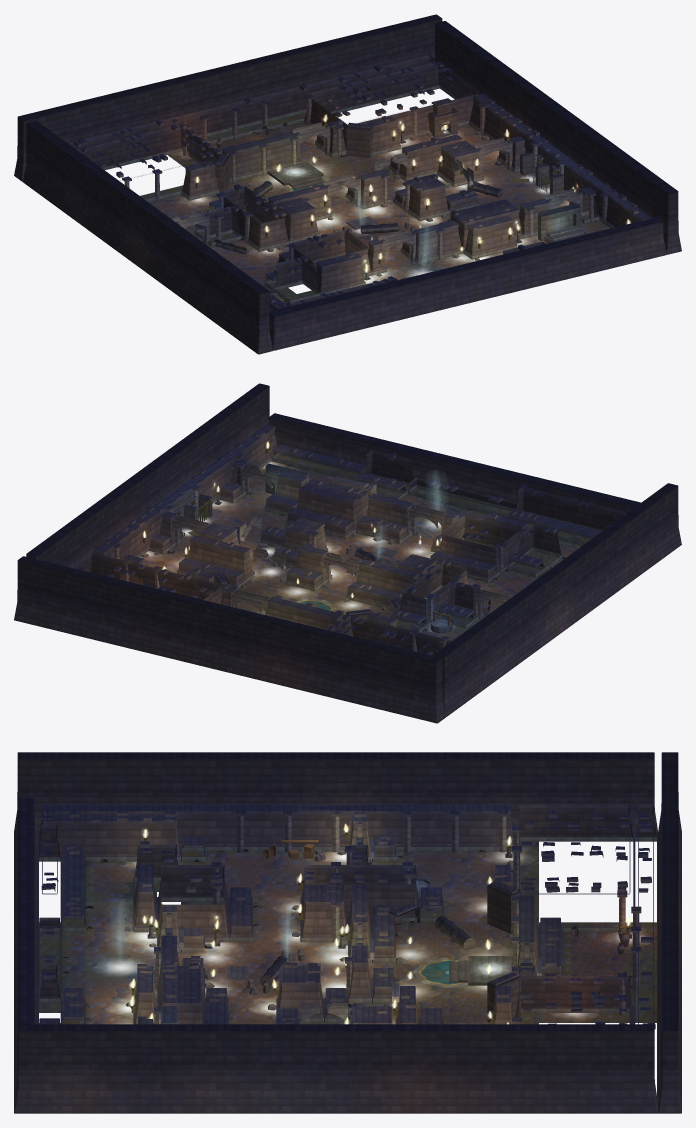
The model's file is level2.glb.
3 views of the same model, one above another, from view 1: azimuth 30°, elevation 25°; view 2: azimuth 150°, elevation 25°; view 3: azimuth 270°, elevation 25° (orthographic). The views are drawn at different scales.
Parts seen in each view (by area): view 1: COL_WALL, DECO_TRIM, FLOOR_DG, FLOOR_DGB, FLOOR_DGV, COL_CUT, FLOOR_POOL, COL_ALTAR, FLOOR_WEAR, COL_RUBBLE, DECO_IRON, FLOOR_SHAFT (+2 smaller); view 2: COL_WALL, DECO_TRIM, FLOOR_DG, FLOOR_DGB, FLOOR_DGV, FLOOR_POOL, COL_CUT, FLOOR_WEAR, COL_RUBBLE, FLOOR_DIRT, FLOOR_SHAFT; view 3: COL_WALL, DECO_TRIM, FLOOR_DG, FLOOR_DGB, FLOOR_DGV, FLOOR_POOL, FLOOR_WEAR, COL_CUT, COL_RUBBLE, COL_ALTAR, FLOOR_DIRT, FLOOR_MEDAL (+4 smaller).
Boxes of the visible parts, left/top/right/bottom form: COL_WALL: left=14, top=14, right=681, bottom=354; DECO_TRIM: left=68, top=54, right=651, bottom=311; FLOOR_DG: left=140, top=124, right=609, bottom=304; FLOOR_DGB: left=157, top=112, right=599, bottom=285; FLOOR_DGV: left=211, top=122, right=405, bottom=202; COL_CUT: left=195, top=119, right=581, bottom=280; FLOOR_POOL: left=182, top=131, right=568, bottom=284; COL_ALTAR: left=267, top=161, right=324, bottom=189; FLOOR_WEAR: left=199, top=133, right=527, bottom=277; COL_RUBBLE: left=203, top=121, right=596, bottom=302; DECO_IRON: left=195, top=121, right=557, bottom=271; FLOOR_SHAFT: left=357, top=189, right=560, bottom=267; COL_WALL: left=14, top=383, right=681, bottom=723; DECO_TRIM: left=71, top=424, right=630, bottom=655; FLOOR_DG: left=140, top=455, right=590, bottom=636; FLOOR_DGB: left=148, top=479, right=573, bottom=640; FLOOR_DGV: left=237, top=577, right=394, bottom=616; FLOOR_POOL: left=140, top=461, right=434, bottom=614; COL_CUT: left=185, top=463, right=490, bottom=633; FLOOR_WEAR: left=163, top=471, right=570, bottom=639; COL_RUBBLE: left=141, top=465, right=565, bottom=630; FLOOR_DIRT: left=155, top=501, right=407, bottom=607; FLOOR_SHAFT: left=376, top=471, right=442, bottom=560; COL_WALL: left=14, top=752, right=681, bottom=1113; DECO_TRIM: left=38, top=804, right=657, bottom=1101; FLOOR_DG: left=39, top=841, right=656, bottom=1024; FLOOR_DGB: left=85, top=851, right=656, bottom=1024; FLOOR_DGV: left=395, top=922, right=634, bottom=1022; FLOOR_POOL: left=108, top=852, right=644, bottom=1023; FLOOR_WEAR: left=70, top=852, right=631, bottom=1023; COL_CUT: left=138, top=848, right=631, bottom=1024; COL_RUBBLE: left=62, top=849, right=634, bottom=1024; COL_ALTAR: left=449, top=956, right=513, bottom=985; FLOOR_DIRT: left=112, top=851, right=513, bottom=1011; FLOOR_MEDAL: left=413, top=957, right=502, bottom=987.
Bounding box in the file's own units: 56 × 7.73 × 56.
Materials: 24 (21 with a texture image).
